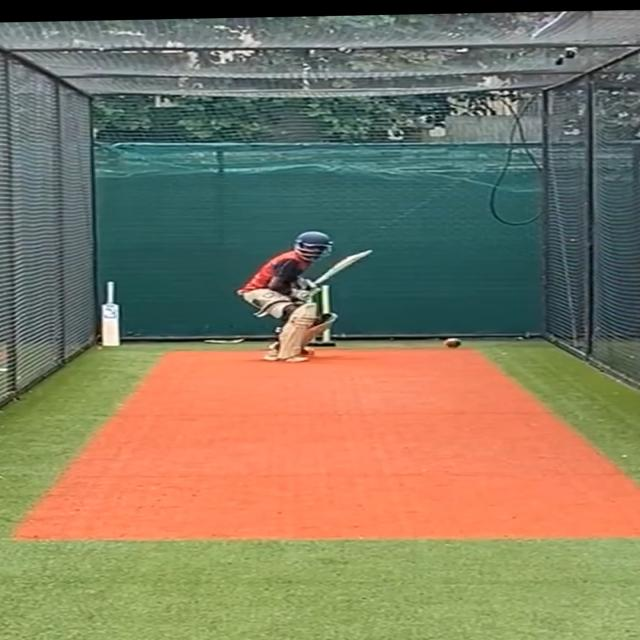ball: (440, 336, 468, 350)
stump: (296, 282, 332, 349)
